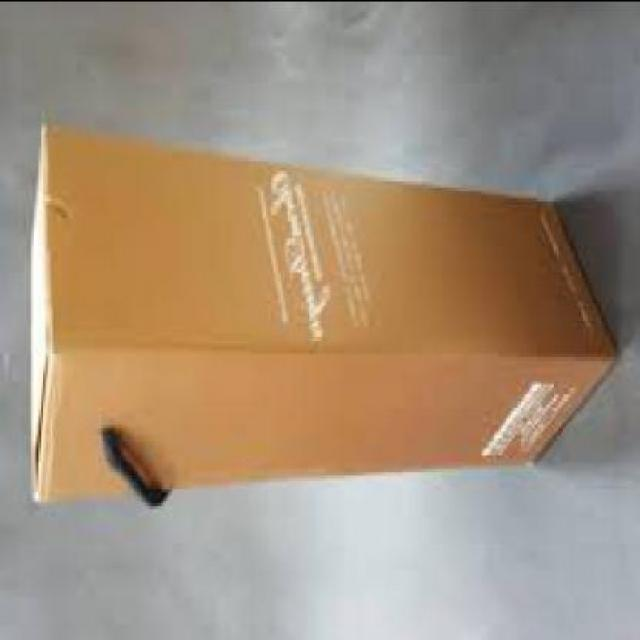box: (26, 123, 617, 499)
